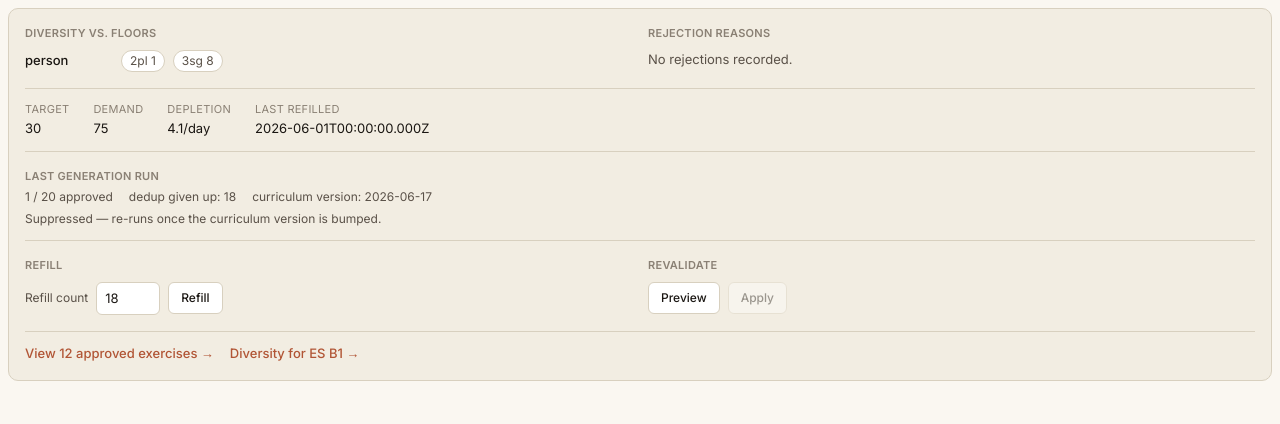
PoolCellDetail — refill › shows the in-progress message on a 409
Click the button "Refill": point(195, 298) 168,282 -> 223,314
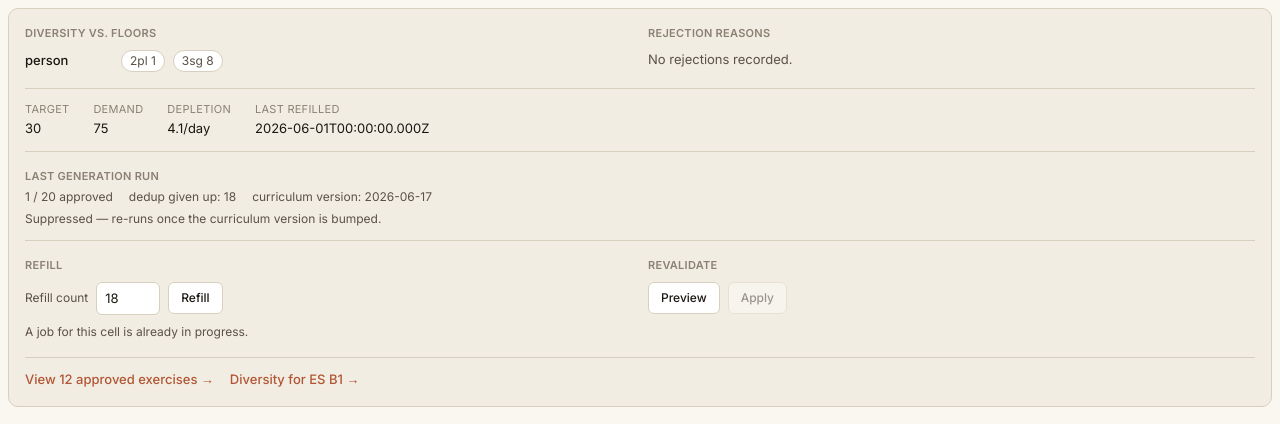
Expected: the text "A job for this cell is already in progress." is shown, 25,324 -> 248,339
